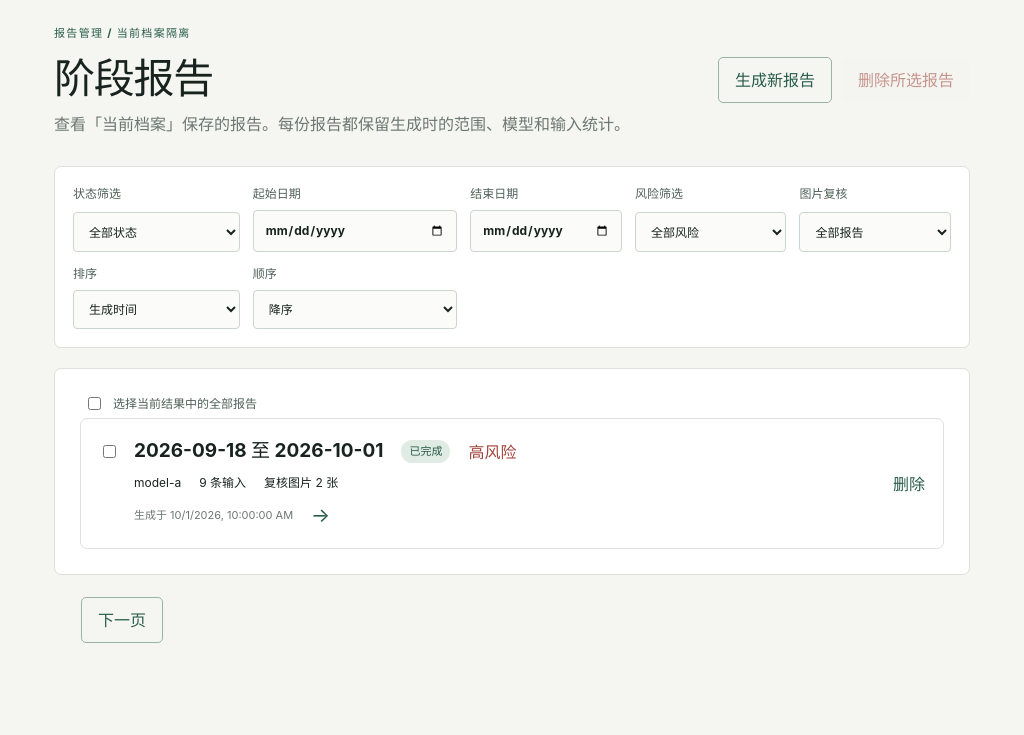
it: ReportsPage › returns to page one when deleting the only report on page two
Expected: the text "2026-09-18 至 2026-10-01" is shown, x1=134 y1=437 x2=384 y2=466
Click the button "下一页".
click(122, 620)  # box x1=81 y1=597 x2=163 y2=643
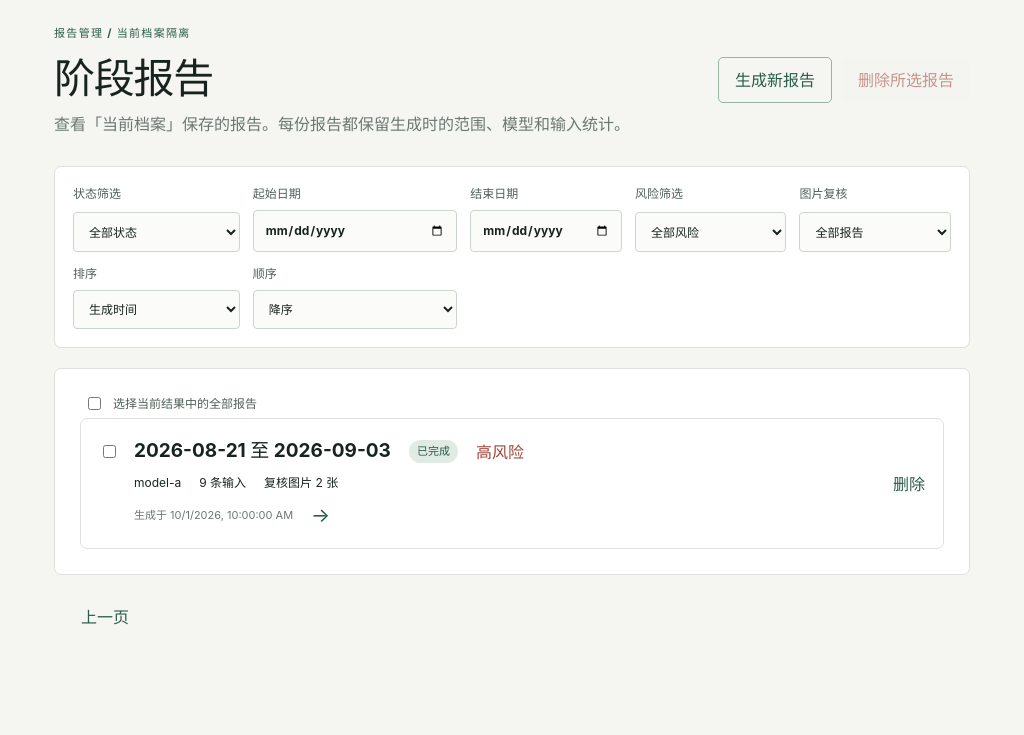
Result: the text "2026-08-21 至 2026-09-03" is shown at x1=134 y1=437 x2=391 y2=466
Click the button with aria-label "删除报告 66".
click(909, 484)  # box x1=893 y1=464 x2=925 y2=504
(page scrolled)
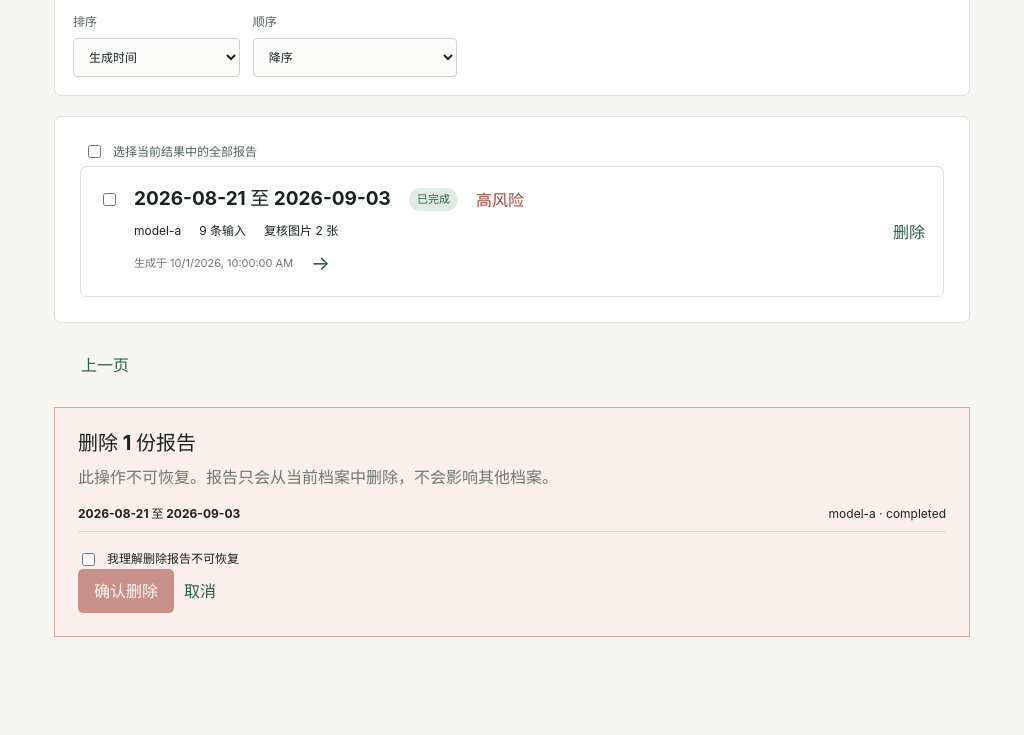
Click the checkbox labelled "我理解删除报告不可恢复".
click(88, 559)  # box x1=82 y1=553 x2=95 y2=566
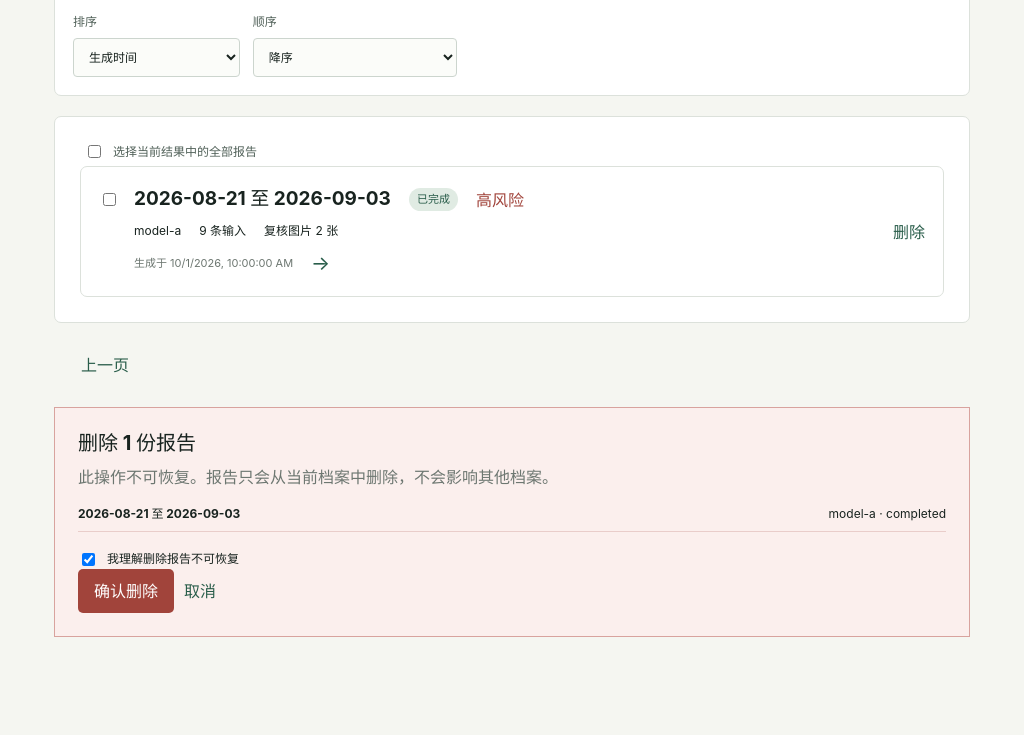
Click the button "确认删除".
click(126, 591)  # box x1=78 y1=569 x2=174 y2=613
(page scrolled)
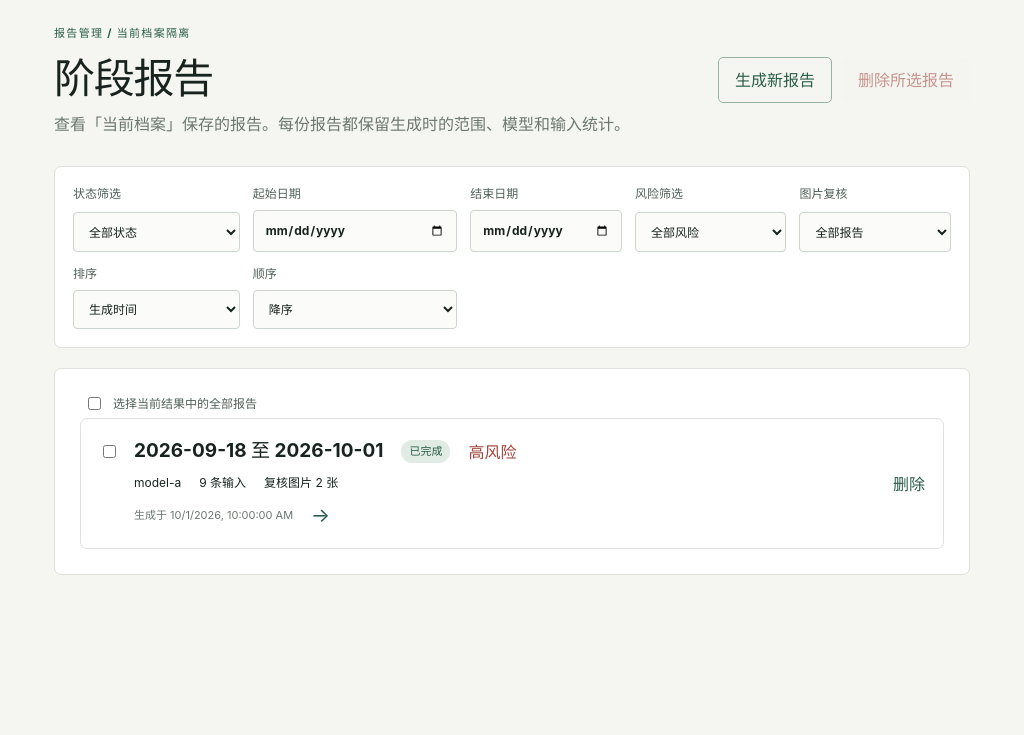
Result: the text "2026-09-18 至 2026-10-01" is shown at x1=134 y1=437 x2=384 y2=466
Result: the button "2026-08-21 至 2026-09-03" is gone
